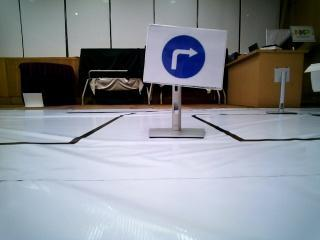right: (153, 23, 222, 85)
